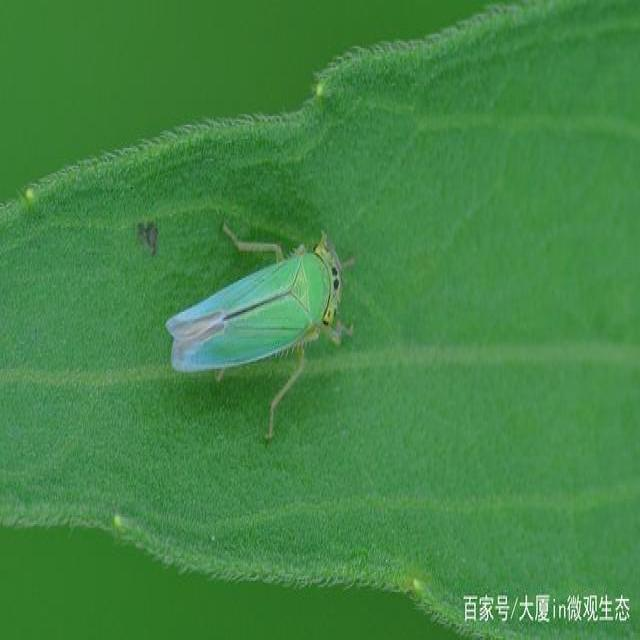Yechan: (165, 232, 348, 412)
